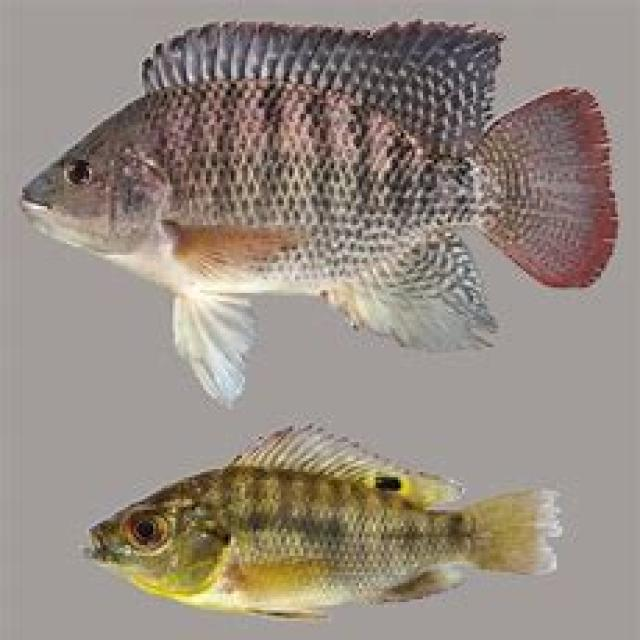Tilapia: (14, 19, 620, 414)
